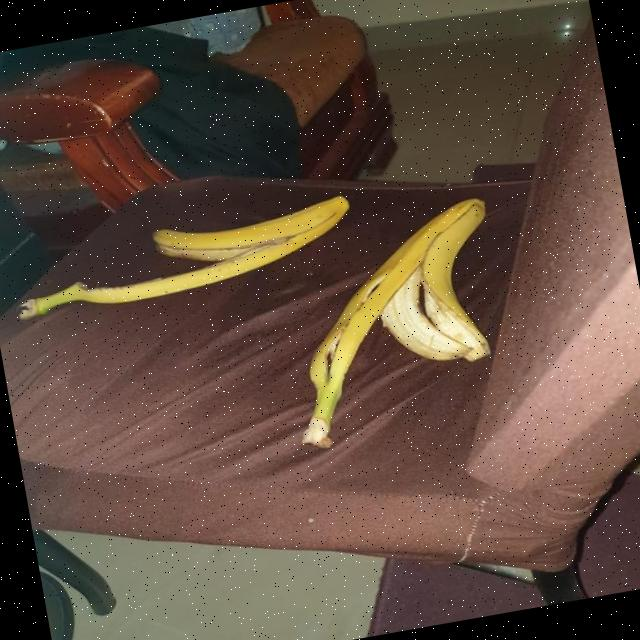banana-peel: (263, 193, 522, 452), (7, 192, 360, 322)
